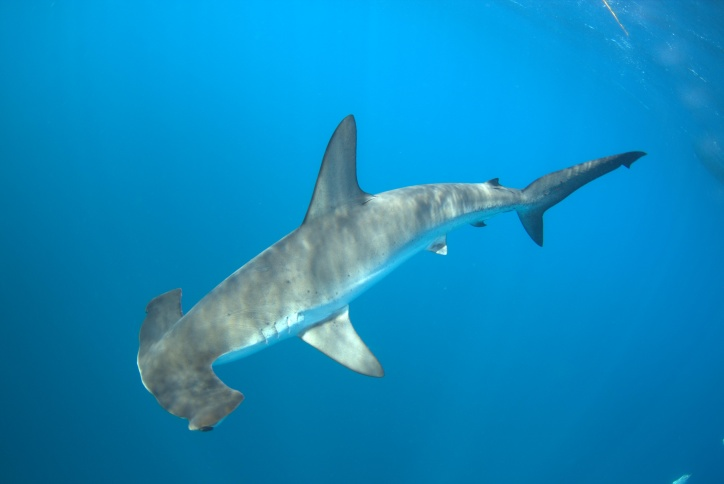Hammer: (93, 92, 664, 456)
